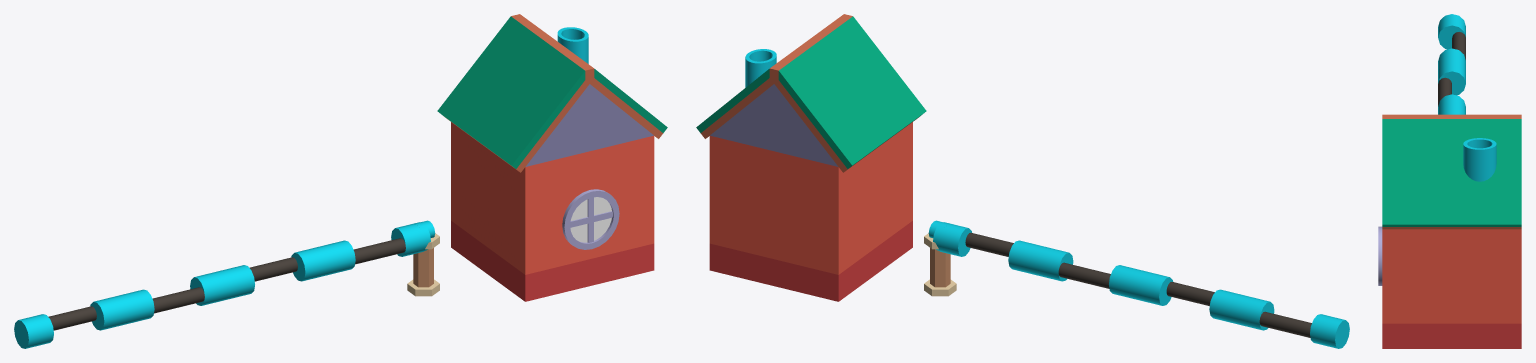
Rendered from kop.fbx.
The picture shows the model from 3 angles, left to right: view 1: azimuth 30°, elevation 25°; view 2: azimuth 150°, elevation 25°; view 3: azimuth 270°, elevation 25°; orthographic projection. The views are drawn at different scales.
Parts seen in each view (by area): view 1: block, roof_slope, tube_steelAlternate, window_round_detail, hilt_handle, pipe_smallBase; view 2: block, roof_slope, tube_steelAlternate, hilt_handle, pipe_smallBase; view 3: block, roof_slope, tube_steelAlternate, pipe_smallBase, window_round_detail.
Part boxes in pixels (x1,y1,x2,y2): block: [451, 122, 654, 301]; roof_slope: [437, 14, 667, 172]; tube_steelAlternate: [14, 222, 430, 348]; window_round_detail: [562, 189, 619, 249]; hilt_handle: [407, 233, 439, 296]; pipe_smallBase: [557, 27, 588, 63]; block: [709, 122, 912, 301]; roof_slope: [696, 14, 926, 172]; tube_steelAlternate: [933, 222, 1349, 348]; hilt_handle: [924, 233, 956, 296]; pipe_smallBase: [745, 49, 776, 87]; block: [1382, 229, 1521, 348]; roof_slope: [1382, 114, 1521, 229]; tube_steelAlternate: [1438, 14, 1465, 114]; pipe_smallBase: [1463, 138, 1496, 181]; window_round_detail: [1378, 226, 1382, 285].
Size of the model in its own units: 47.26 by 16.06 by 10.3.
